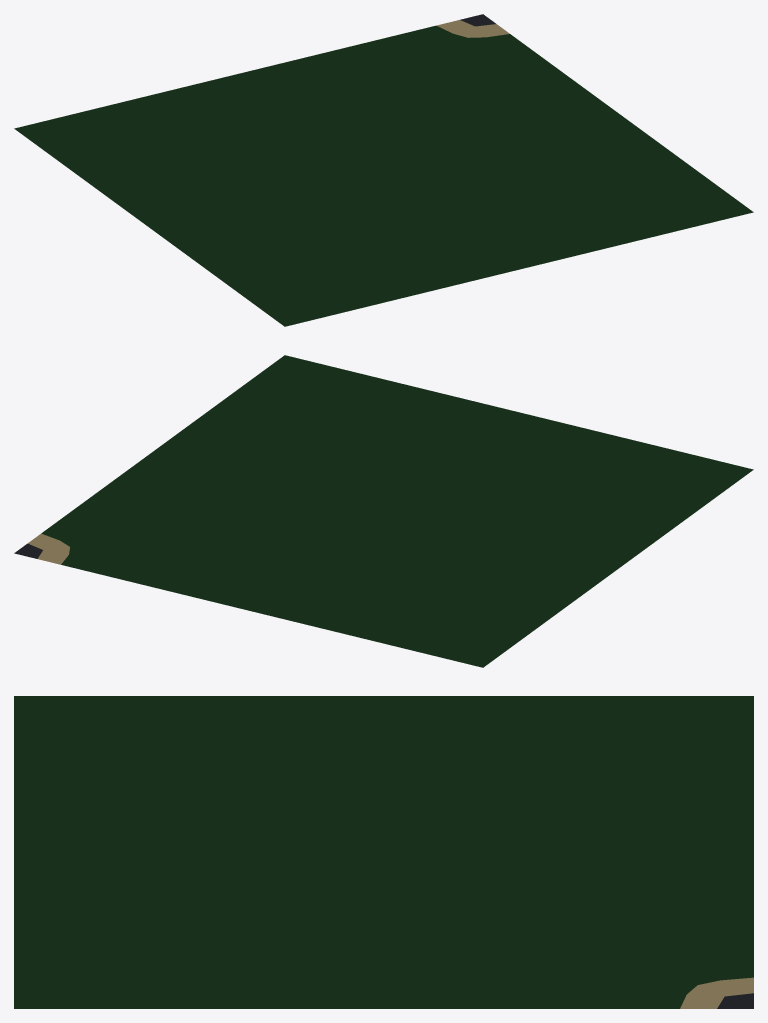
Rendered from terrain_plains_corner_inner.fbx.
The picture shows the model from 3 angles, top to bottom: view 1: azimuth 30°, elevation 25°; view 2: azimuth 150°, elevation 25°; view 3: azimuth 270°, elevation 25°; orthographic projection. The views are drawn at different scales.
Parts seen in each view (by area): view 1: terrain_plains_corner_inner; view 2: terrain_plains_corner_inner; view 3: terrain_plains_corner_inner.
Boxes of the visible parts, box(x1,y1,x2,y2) form: terrain_plains_corner_inner: box(14, 14, 753, 326); terrain_plains_corner_inner: box(14, 355, 753, 667); terrain_plains_corner_inner: box(14, 696, 753, 1008).
Bounding box in the file's own units: 10 × 0 × 10.
